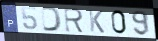0: (110, 10, 128, 36)
5: (20, 5, 39, 31)
9: (131, 10, 151, 37)
D: (40, 6, 64, 33)
K: (87, 9, 106, 35)
R: (63, 7, 86, 34)
